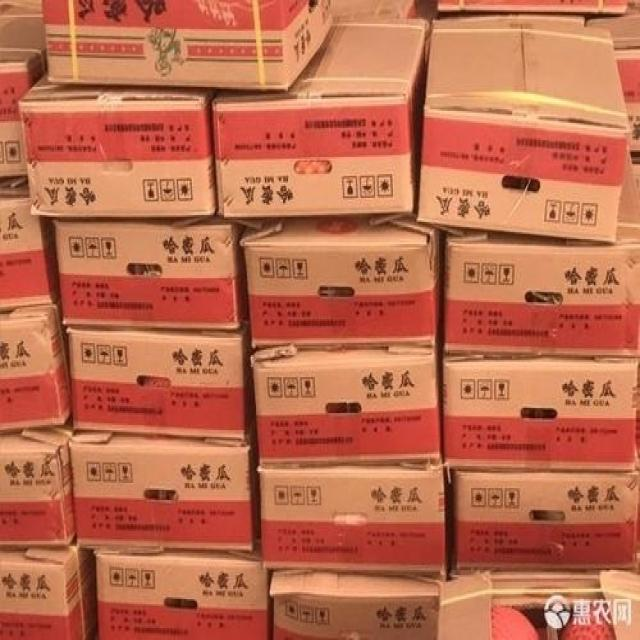box: (416, 22, 630, 244), (211, 18, 432, 214), (443, 146, 638, 358), (18, 79, 219, 216), (74, 411, 264, 552), (247, 215, 441, 353), (43, 1, 336, 92), (62, 307, 255, 443), (251, 339, 438, 468), (52, 215, 249, 332), (442, 355, 637, 471), (259, 458, 445, 570), (451, 465, 639, 570), (93, 531, 271, 637), (438, 572, 639, 638), (273, 568, 449, 635), (0, 409, 80, 550), (1, 537, 100, 638), (0, 302, 74, 433), (0, 179, 63, 309), (0, 0, 45, 180), (585, 5, 639, 102), (437, 1, 631, 17), (437, 15, 584, 28), (330, 1, 437, 18), (625, 97, 639, 155)
